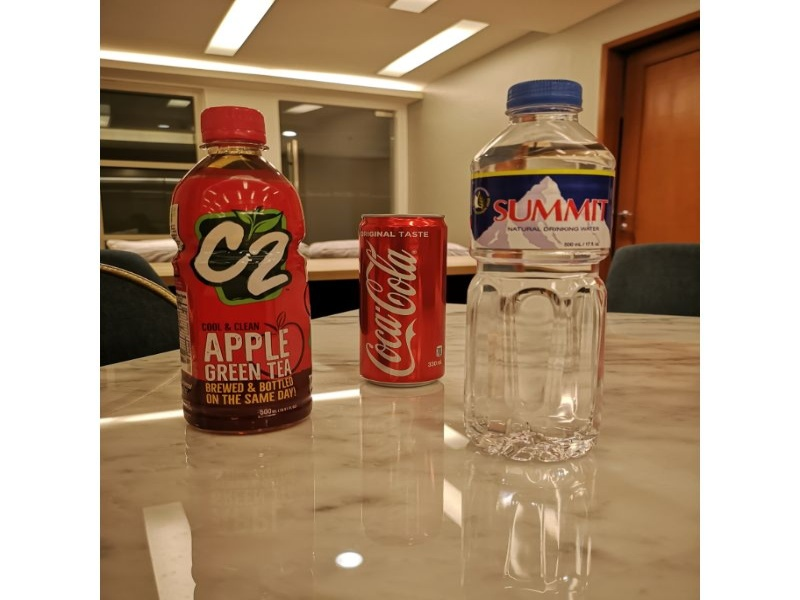PET #1: (462, 75, 618, 471), (170, 102, 320, 436)
